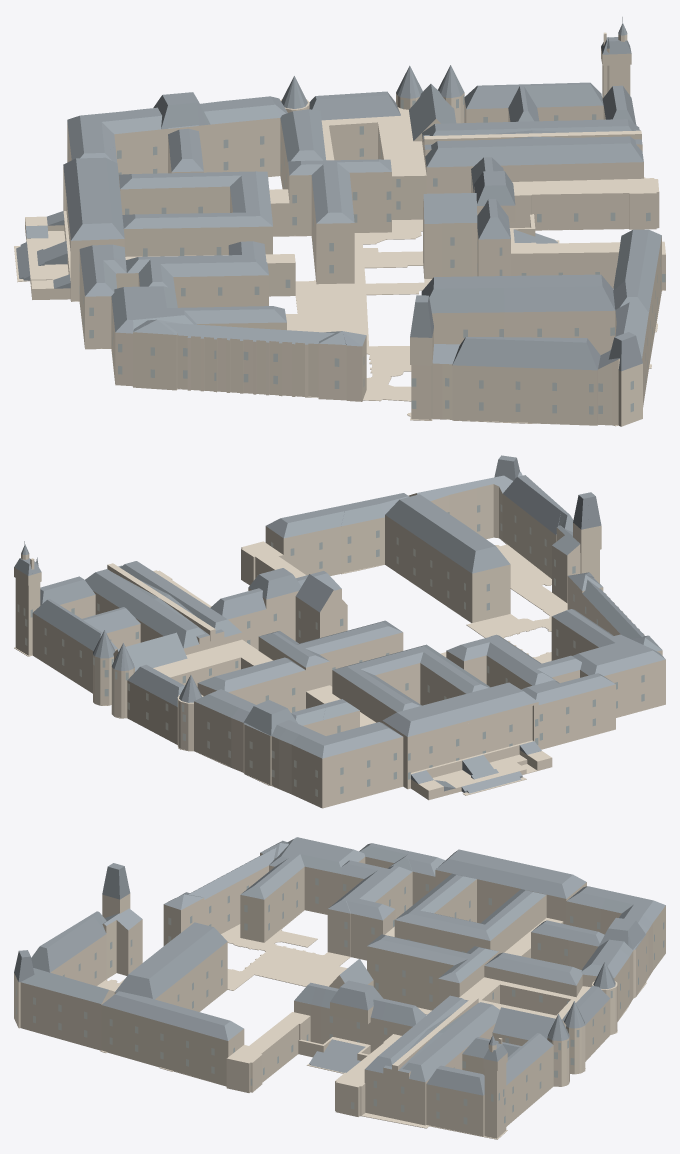
3 views of the same model, one above another, from view 1: azimuth 30°, elevation 25°; view 2: azimuth 150°, elevation 25°; view 3: azimuth 270°, elevation 25° (orthographic). The views are drawn at different scales.
Visible parts, largest first — view 1: stone, roof, window; view 2: stone, roof, window; view 3: stone, roof, window.
Part boxes in pixels (x1,y1,x2,y2): stone: (14, 32, 665, 426); roof: (16, 17, 661, 371); window: (67, 90, 665, 414); stone: (14, 484, 665, 808); roof: (14, 455, 665, 793); window: (17, 504, 644, 796); stone: (14, 853, 665, 1139); roof: (14, 837, 665, 1095); window: (16, 878, 664, 1124).
Size of the model in its own units: 241 by 47 by 257.
